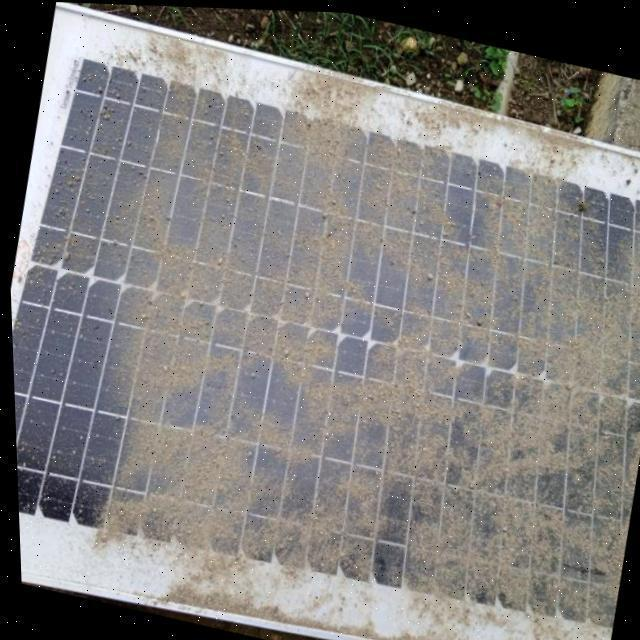Surface Contaminant: (8, 35, 640, 640)
